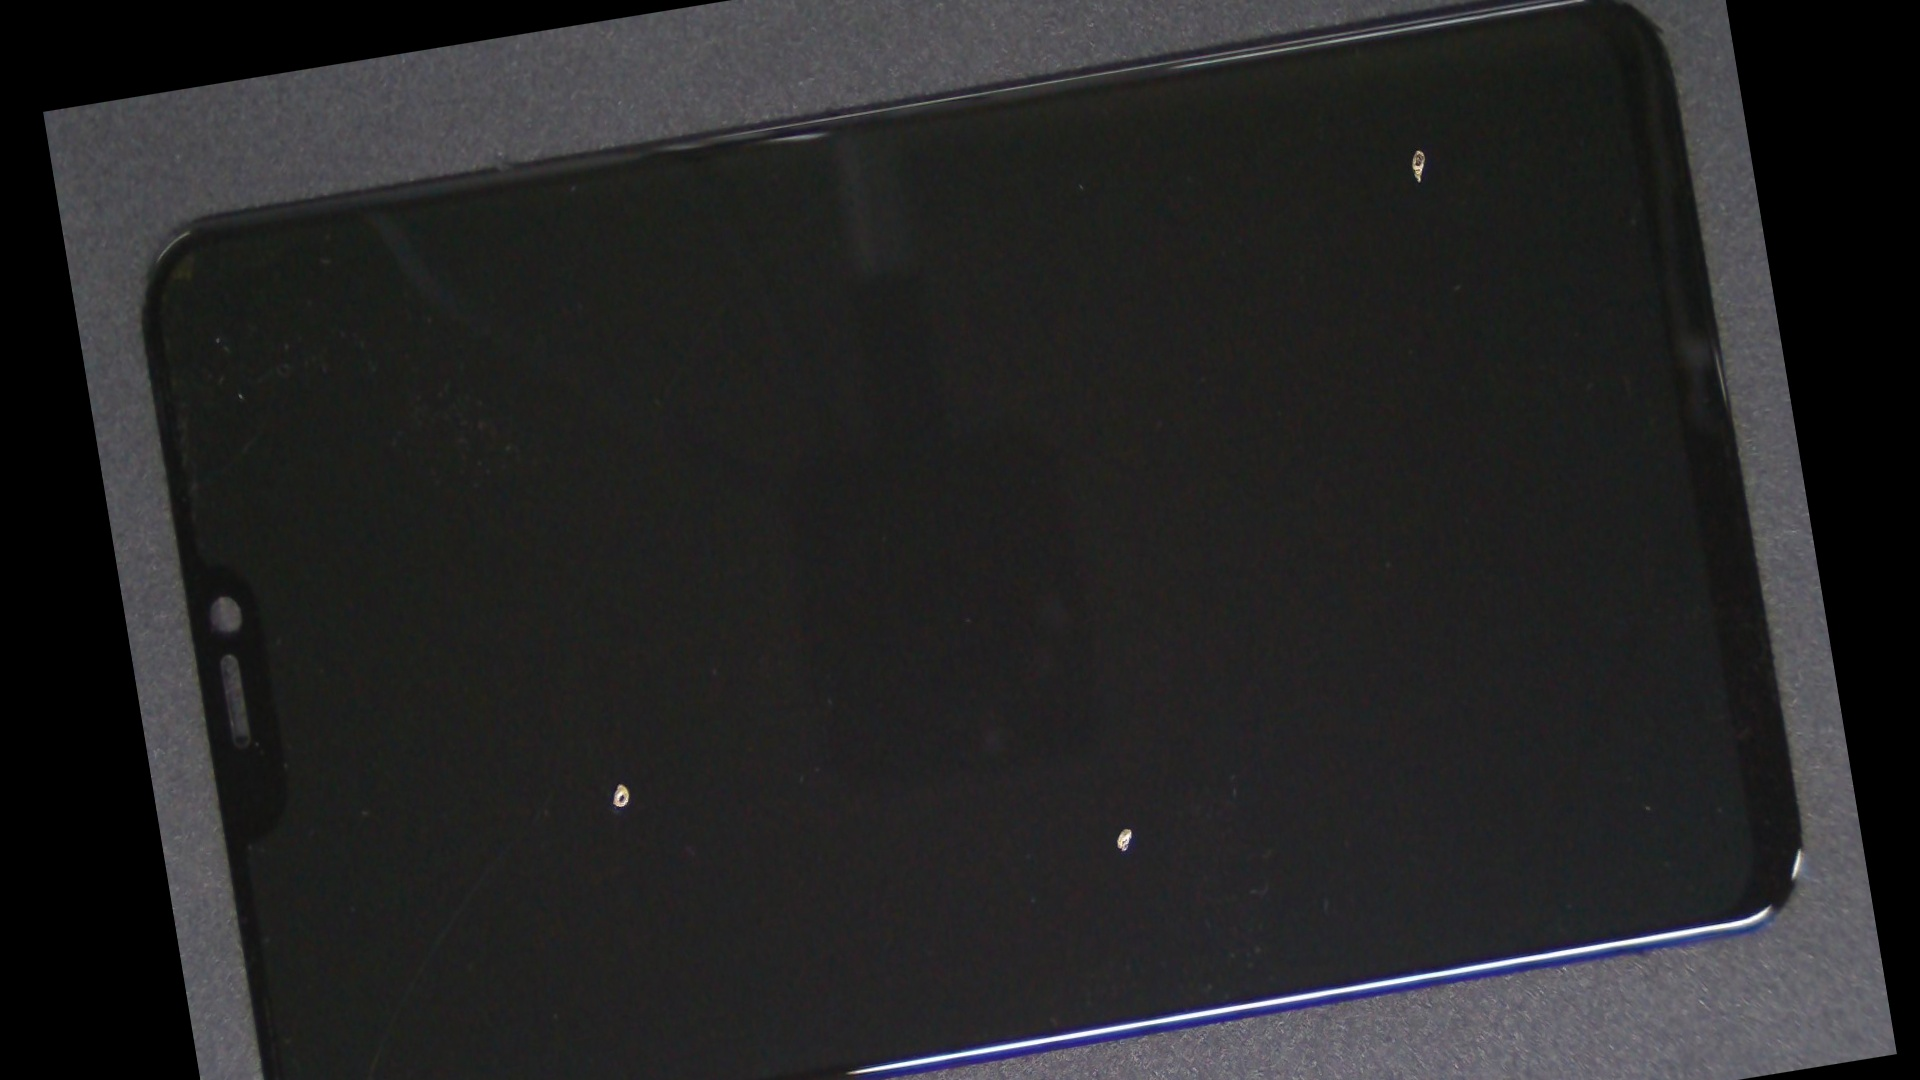oil: (583, 316, 1646, 1080), (330, 372, 903, 1080), (731, 0, 1762, 382)
